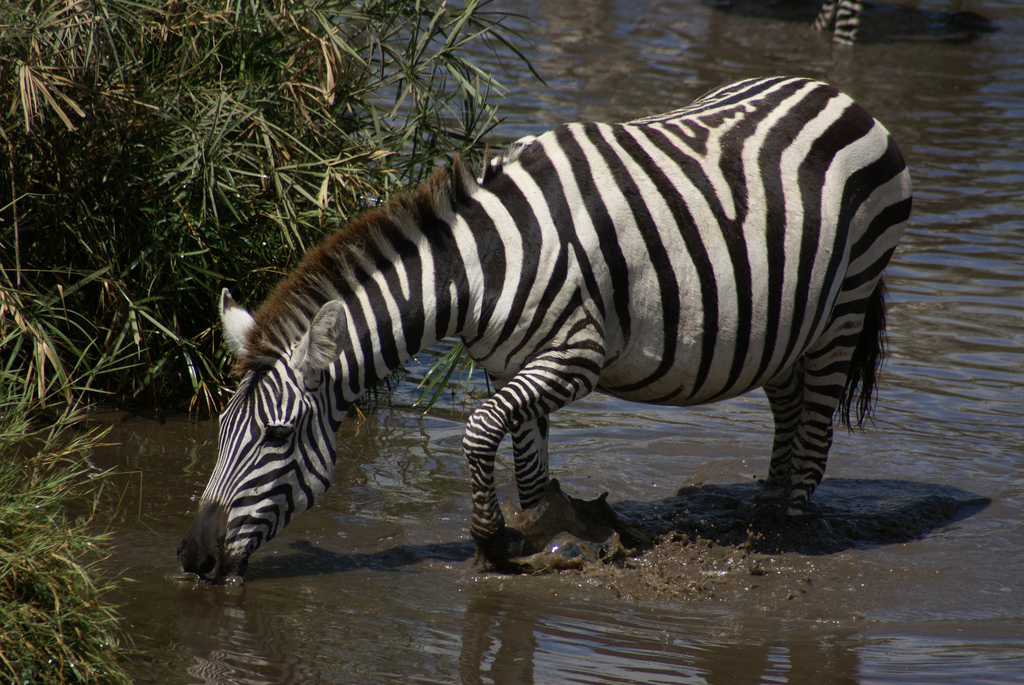zebra: (160, 73, 910, 582)
